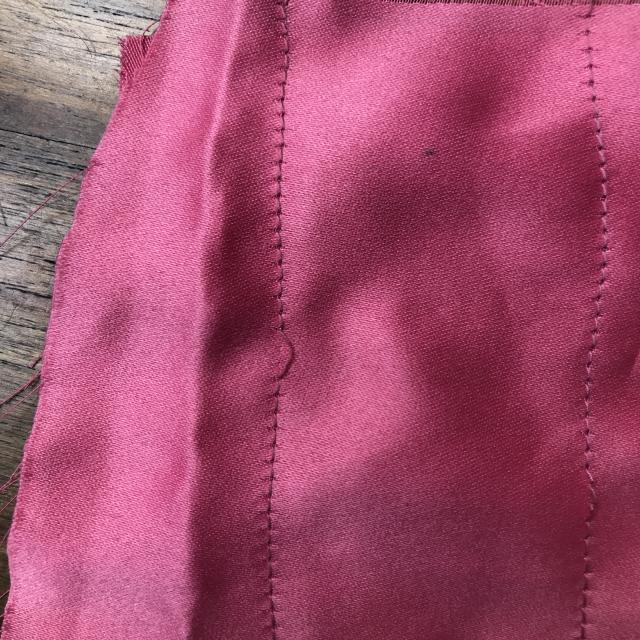skip: (248, 308, 316, 394)
